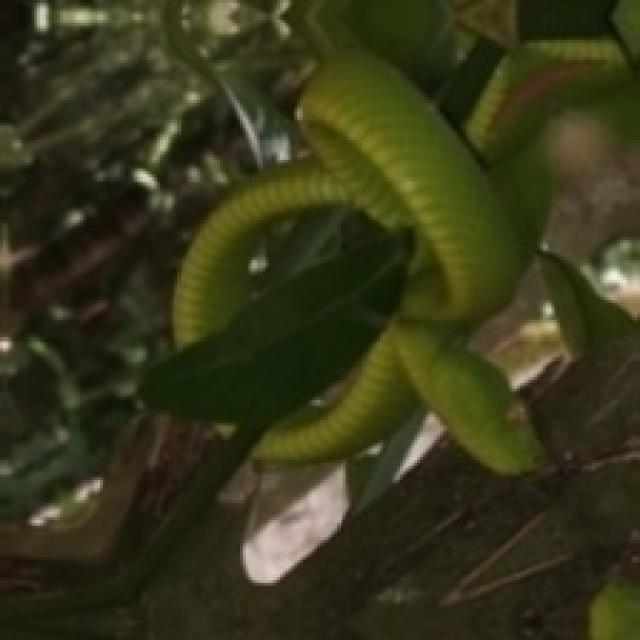north ph temple pitviper: (143, 0, 637, 471)
